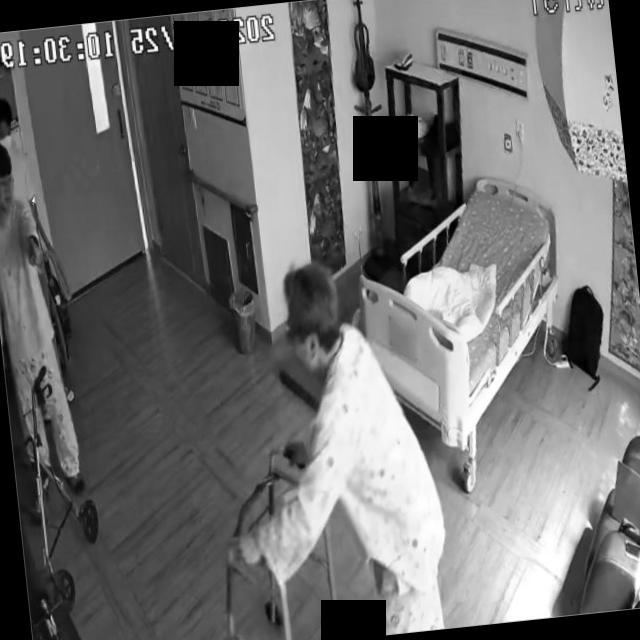bed: (346, 178, 580, 462)
patient: (213, 254, 458, 640), (0, 137, 85, 497)
